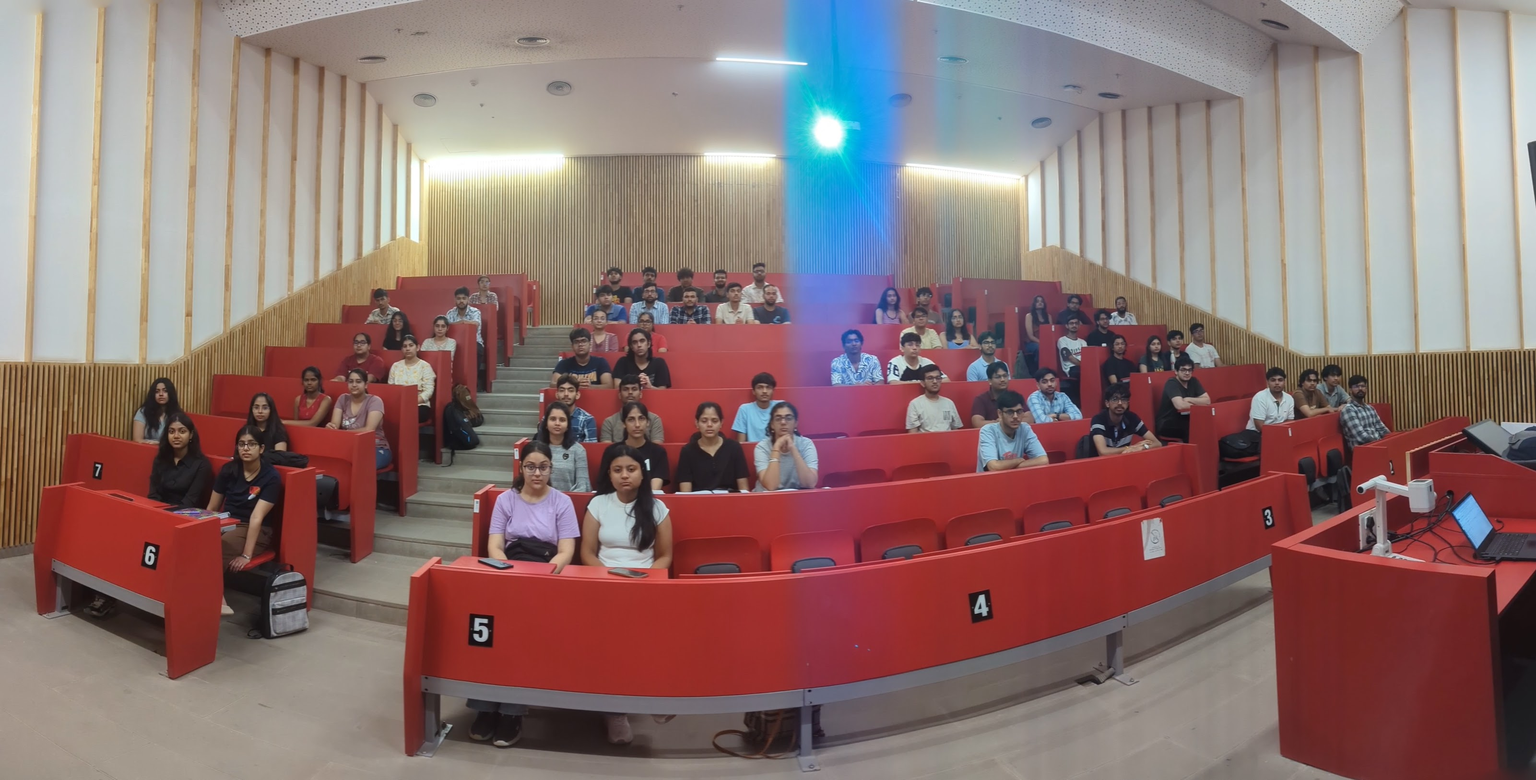student_face: (521, 452, 550, 487), (610, 463, 647, 490), (999, 400, 1028, 431), (749, 376, 779, 403), (144, 374, 172, 402), (699, 402, 722, 436), (166, 418, 188, 450), (983, 359, 1008, 387), (242, 436, 264, 467), (567, 329, 589, 358), (625, 409, 647, 438), (626, 332, 647, 359), (920, 367, 943, 391), (621, 379, 641, 406), (772, 411, 799, 431), (553, 379, 576, 402), (547, 408, 566, 435), (1109, 388, 1128, 415), (1107, 334, 1129, 356), (1269, 373, 1287, 399), (744, 260, 767, 280), (758, 284, 781, 304), (1323, 366, 1345, 386), (1145, 337, 1166, 357), (1302, 366, 1318, 391), (1039, 373, 1058, 394), (1174, 364, 1195, 383), (1028, 295, 1051, 312), (979, 331, 996, 354), (345, 369, 365, 388), (434, 321, 452, 342), (839, 336, 864, 351), (900, 340, 923, 356), (1063, 319, 1083, 337), (640, 312, 656, 334), (879, 288, 899, 305), (675, 269, 693, 287), (296, 367, 314, 385), (353, 337, 371, 355), (253, 396, 265, 423), (595, 285, 611, 305), (1115, 293, 1128, 317), (591, 312, 608, 330), (639, 287, 656, 305), (1169, 330, 1185, 349), (917, 285, 931, 306), (374, 293, 391, 310), (1352, 382, 1369, 399), (712, 270, 727, 289), (638, 270, 659, 283), (947, 312, 963, 329), (1191, 327, 1206, 344), (479, 270, 490, 293), (683, 294, 698, 310), (1068, 297, 1083, 313), (604, 270, 625, 281), (913, 312, 928, 327), (389, 317, 403, 333), (456, 290, 467, 310), (1096, 310, 1111, 324), (729, 287, 743, 301), (404, 338, 416, 354)
